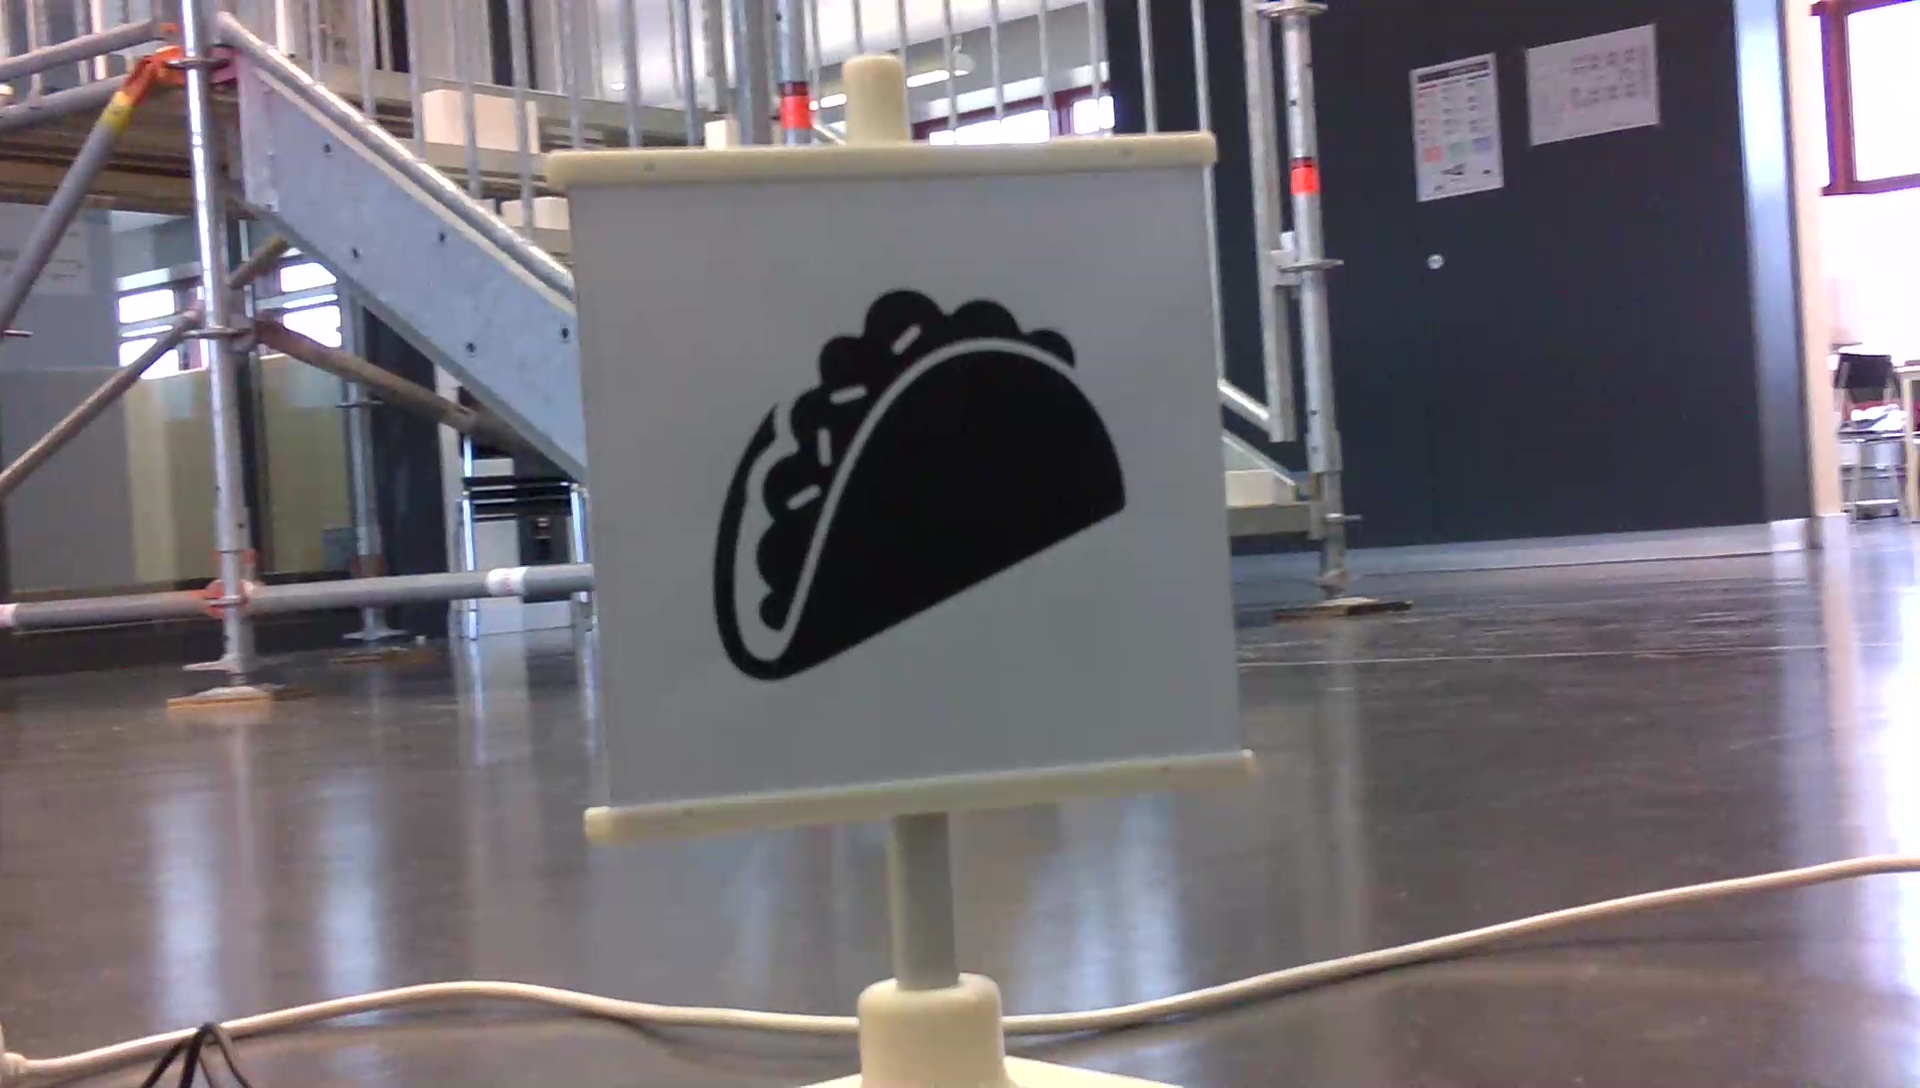brick: (1222, 469, 1273, 502)
taco: (700, 278, 1139, 686)
